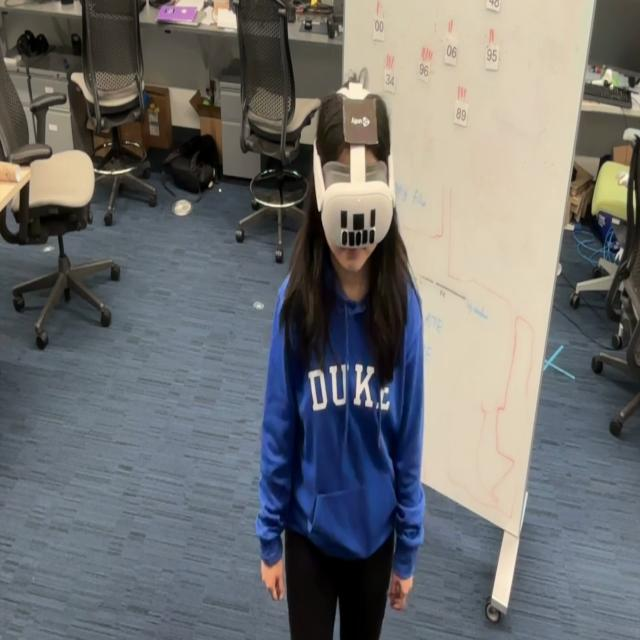Headset: (311, 80, 395, 254)
UnityLogo: (341, 94, 380, 147)
